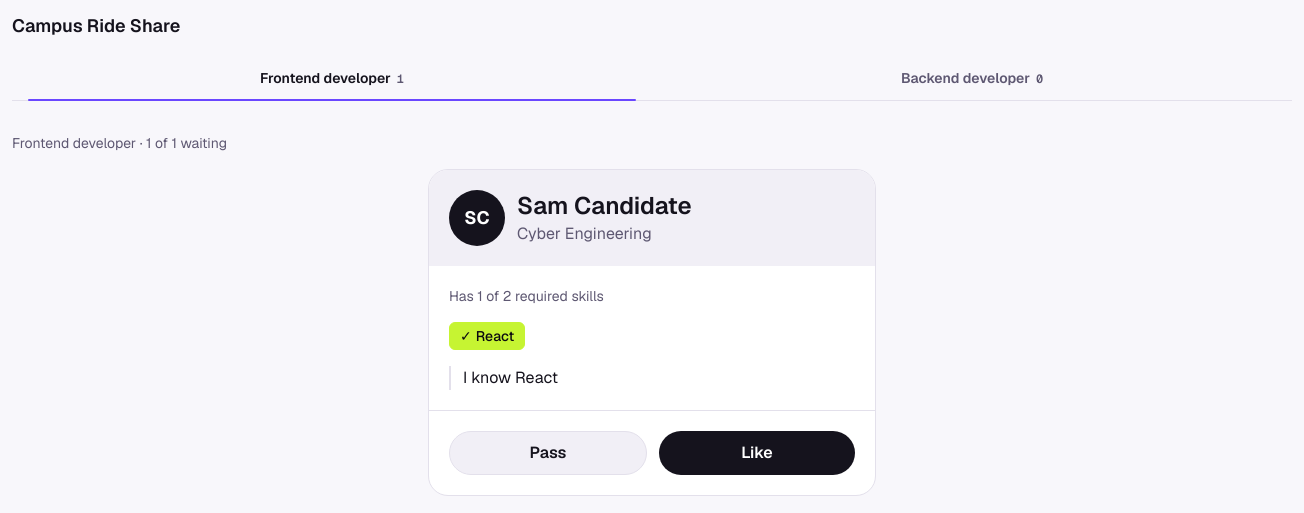
passing sends the pass
Click the button with aria-label "Pass on Sam Candidate" at (548, 453), box [449,431,647,475]
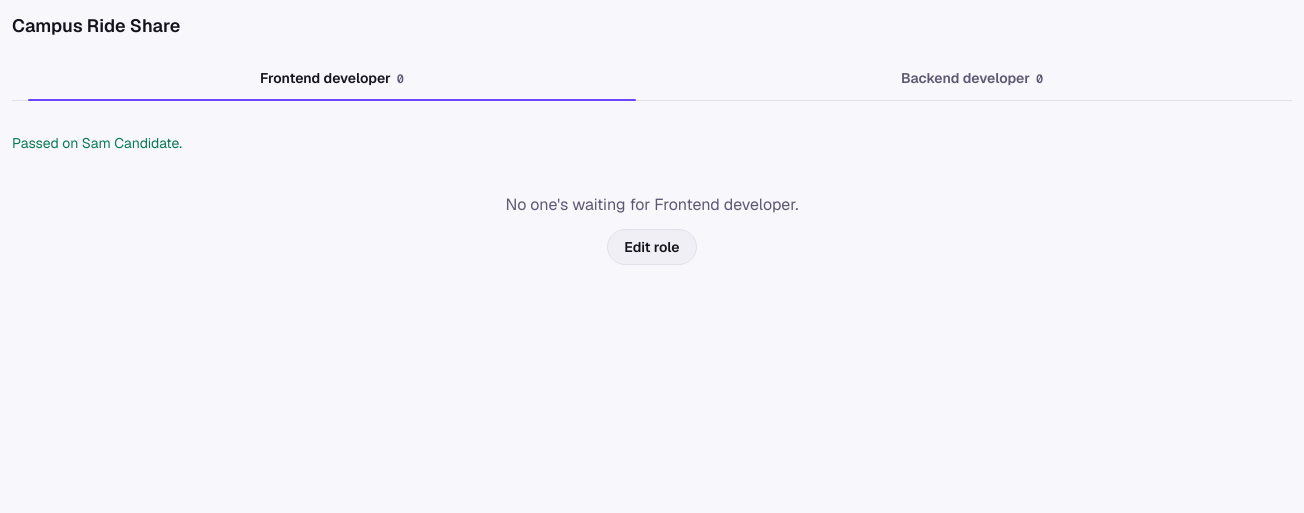
Check: the message reads "Passed on Sam Candidate.", box [12,134,182,152]
